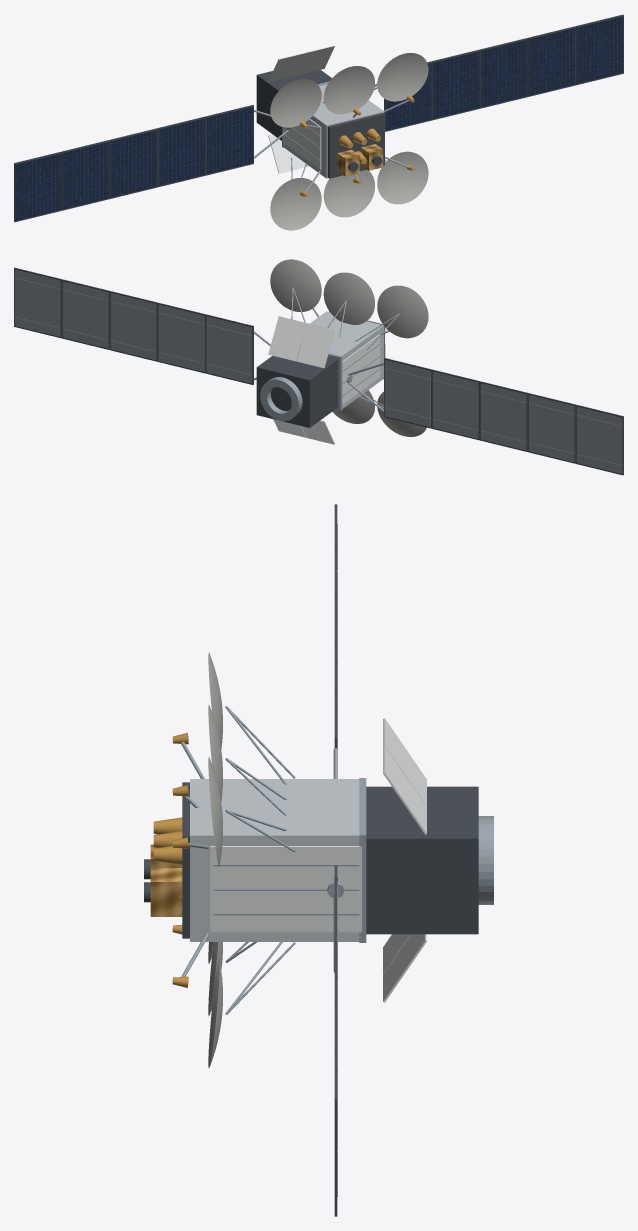
The model's file is boeing-702hp-inmarsat5.glb.
3 views of the same model, one above another, from view 1: azimuth 30°, elevation 25°; view 2: azimuth 150°, elevation 25°; view 3: azimuth 270°, elevation 25° (orthographic). The views are drawn at different scales.
Visible parts, largest first — view 1: Solar cell panel (×10), Communications reflector (×6), Solar panel frame (×9), Deployed radiator leaf (×3), Earth-facing deck, Service module, Payload module, Radiator face, Communications feed assembly (×2); view 2: Rear array substrate (×10), Communications reflector (×5), Service module, Solar panel frame (×10), Deployed radiator leaf (×4), Payload module, Radiator face, Launch adapter ring; view 3: Service module, Payload module, Radiator face, Deployed radiator leaf (×3), Communications feed assembly, Launch adapter ring, Earth-facing deck, Module interface.
Part boxes in pixels (box(x1,y1,x2,y2)): Solar cell panel (×10): box(15, 16, 623, 220); Communications reflector (×6): box(270, 53, 428, 230); Solar panel frame (×9): box(14, 14, 623, 222); Deployed radiator leaf (×3): box(268, 45, 334, 173); Earth-facing deck: box(327, 113, 384, 178); Service module: box(256, 70, 331, 140); Payload module: box(284, 84, 384, 178); Radiator face: box(282, 119, 321, 169); Communications feed assembly (×2): box(337, 144, 383, 176); Rear array substrate (×10): box(14, 269, 622, 473); Communications reflector (×5): box(270, 259, 428, 436); Service module: box(256, 352, 337, 427); Solar panel frame (×10): box(14, 267, 623, 475); Deployed radiator leaf (×4): box(268, 316, 334, 444); Payload module: box(300, 311, 384, 408); Radiator face: box(341, 334, 380, 404); Launch adapter ring: box(260, 377, 302, 421); Service module: box(366, 786, 478, 934); Payload module: box(190, 779, 359, 941); Radiator face: box(210, 846, 361, 932); Deployed radiator leaf (×3): box(383, 718, 426, 1002); Communications feed assembly: box(150, 868, 182, 916); Launch adapter ring: box(478, 816, 493, 904); Earth-facing deck: box(182, 782, 189, 938); Module interface: box(359, 778, 366, 942).
Bounding box in the file's own units: 33.77 × 7.95 × 8.4.
Materials: 9 (2 with a texture image).
